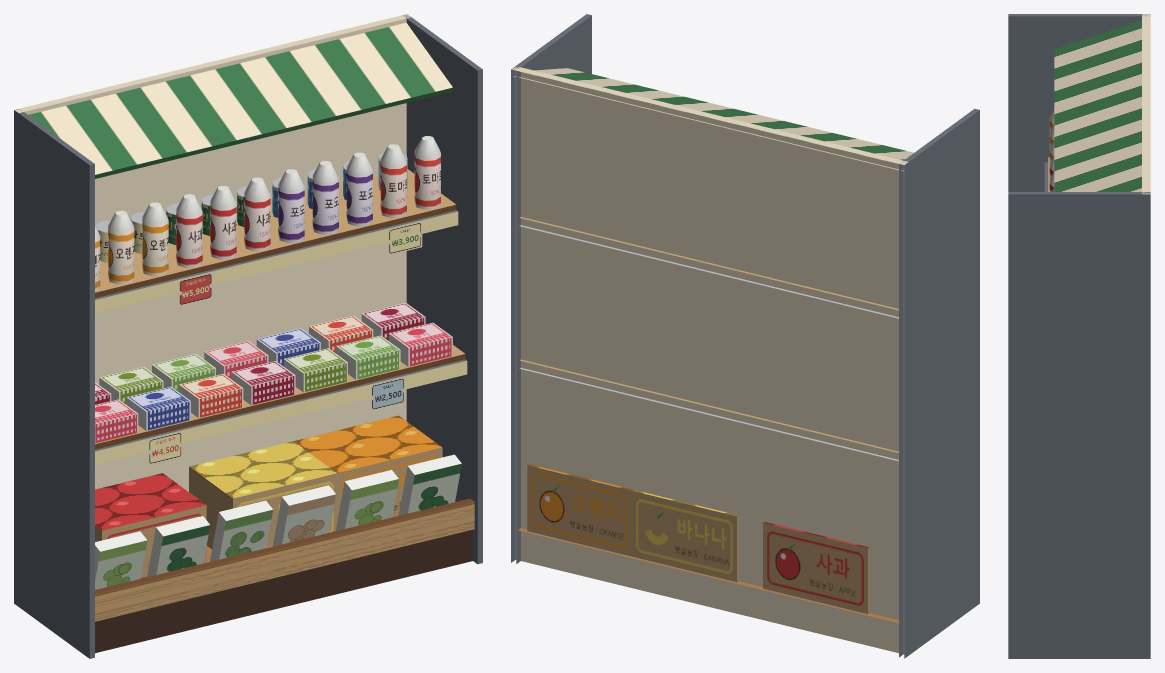
Rendered from Prop_ProduceShelf_A.fbx.
The picture shows the model from 3 angles, left to right: view 1: azimuth 30°, elevation 25°; view 2: azimuth 150°, elevation 25°; view 3: azimuth 270°, elevation 25°; orthographic projection. The views are drawn at different scales.
Parts seen in each view (by area): view 1: Prop_ProduceShelf_A; view 2: Prop_ProduceShelf_A; view 3: Prop_ProduceShelf_A.
Part boxes in pixels (x1,y1,x2,y2): Prop_ProduceShelf_A: [14, 14, 482, 658]; Prop_ProduceShelf_A: [511, 14, 979, 658]; Prop_ProduceShelf_A: [1008, 14, 1150, 658].
Bounding box in the file's own units: 1.5 × 1.8 × 0.5.
Materials: 1 (1 with a texture image).
